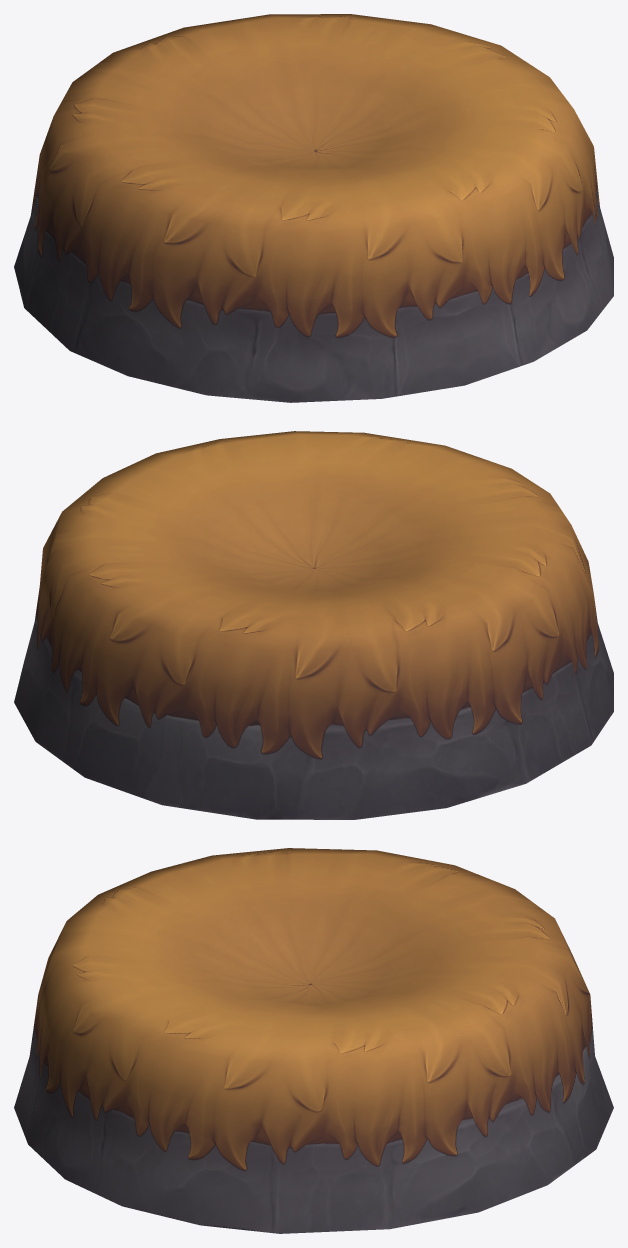
File: DinoNest_01.fbx
3 renders of one model, top to bottom at view 1: azimuth 30°, elevation 25°; view 2: azimuth 150°, elevation 25°; view 3: azimuth 270°, elevation 25°, orthographic.
Parts seen in each view (by area): view 1: DinoNest_01; view 2: DinoNest_01; view 3: DinoNest_01.
Boxes of the visible parts, box(x1,y1,x2,y2) form: DinoNest_01: box(14, 14, 613, 402); DinoNest_01: box(14, 431, 613, 819); DinoNest_01: box(14, 848, 613, 1233).
Bounding box in the file's own units: 36.54 × 10.91 × 36.72.
